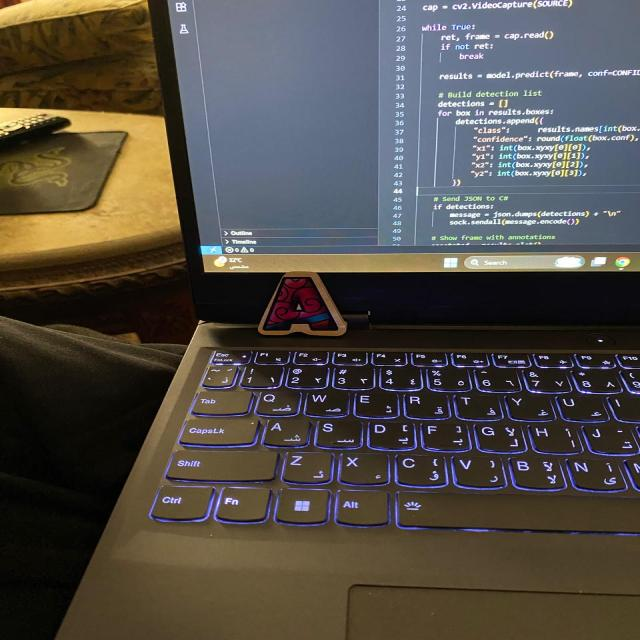A: (259, 272, 346, 335)
